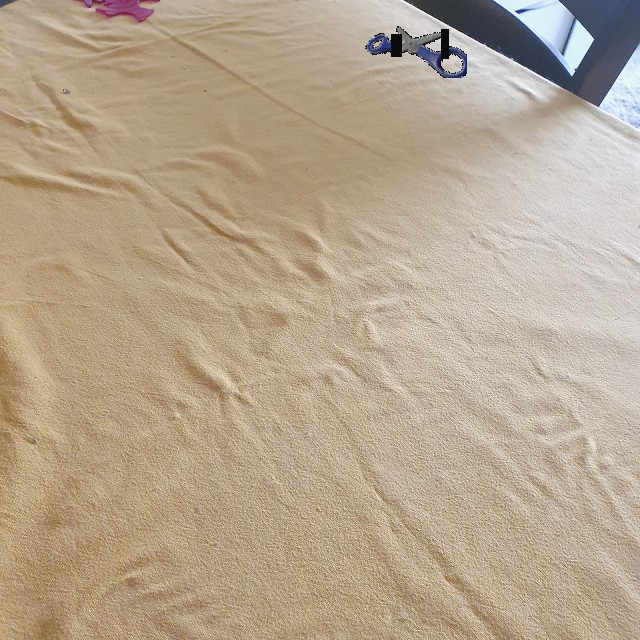scissors: (365, 26, 467, 78)
